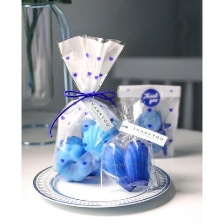snack: (44, 28, 138, 187), (92, 93, 164, 195), (110, 79, 185, 163)
